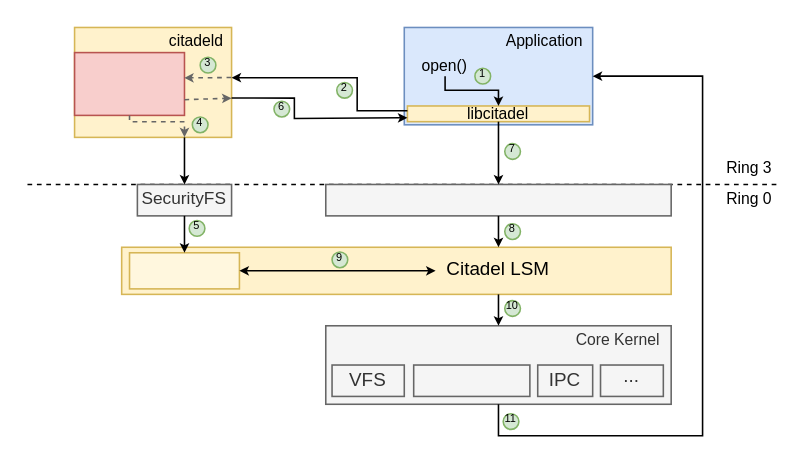
Image size: 810x471. Some labels were removed from this diagram. Each missing label, with the centre of its shape:
Enclave: (x=128, y=83)
Kernel Interface: (x=497, y=199)
Networking: (x=471, y=379)
Reservation Cache: (x=183, y=270)
